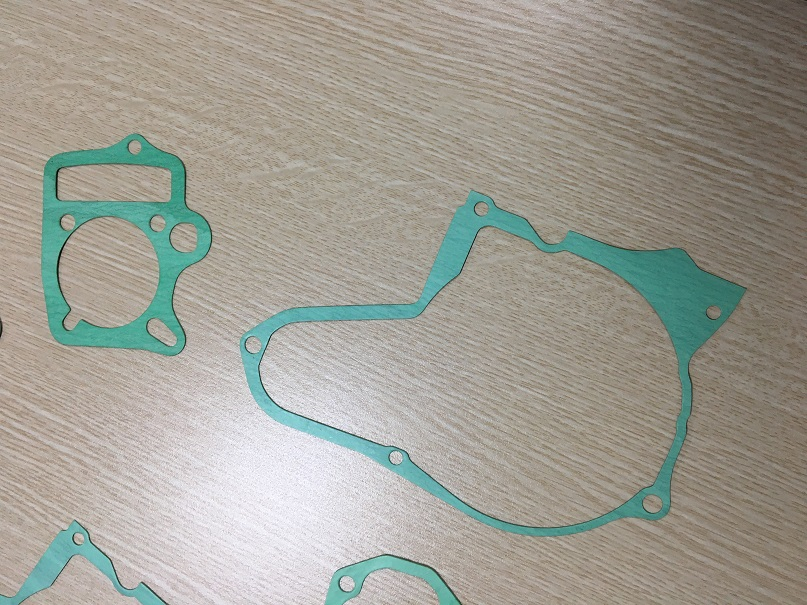type1: (237, 179, 752, 541)
type4: (32, 133, 218, 360)
